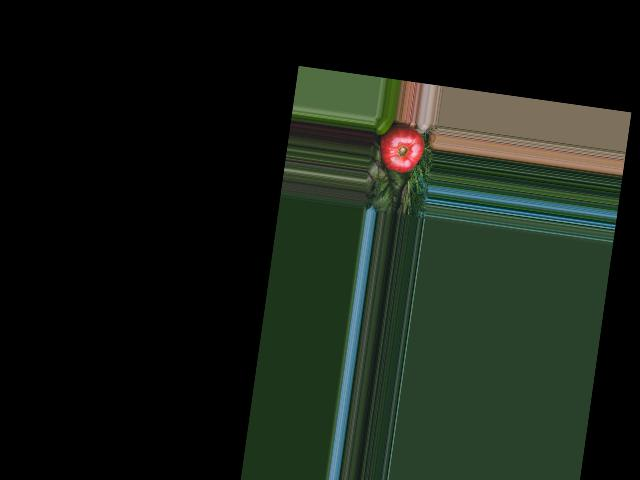tomato: (375, 120, 426, 174)
